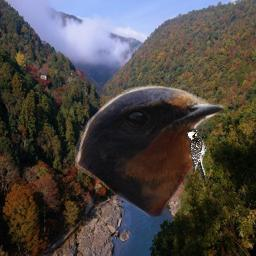Swallow: (75, 84, 230, 218)
Woodpecker: (184, 128, 209, 182)
